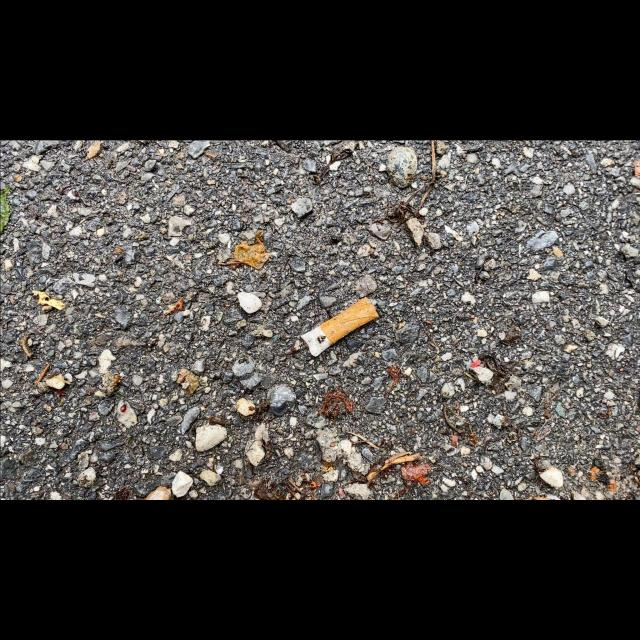cigarette: (300, 296, 380, 357)
